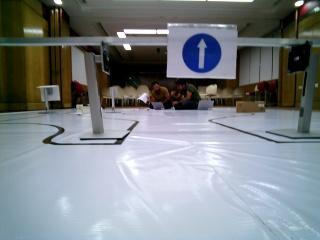straight: (172, 23, 237, 78)
